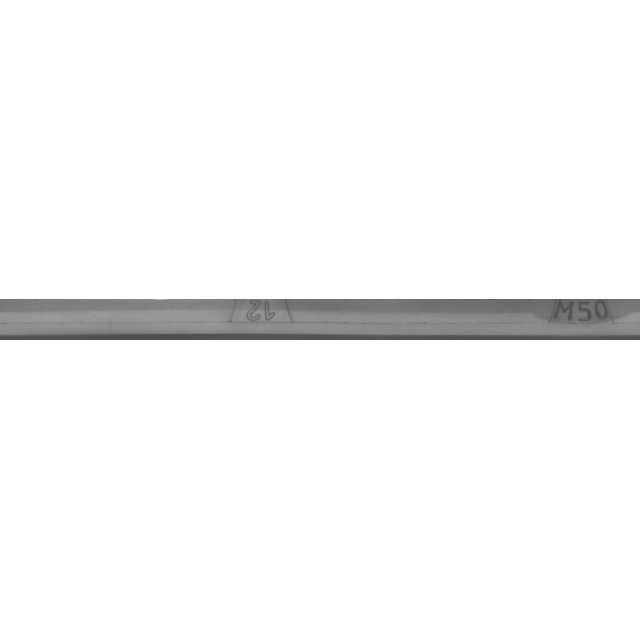mohao: (485, 270, 640, 370)
xuehao: (161, 270, 361, 370)
